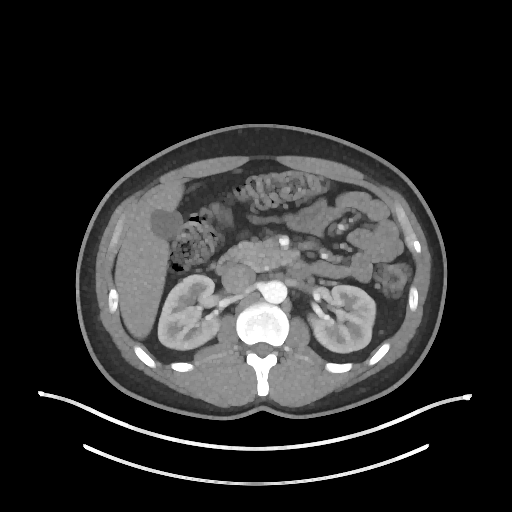Lesion: (175, 277, 186, 286)
